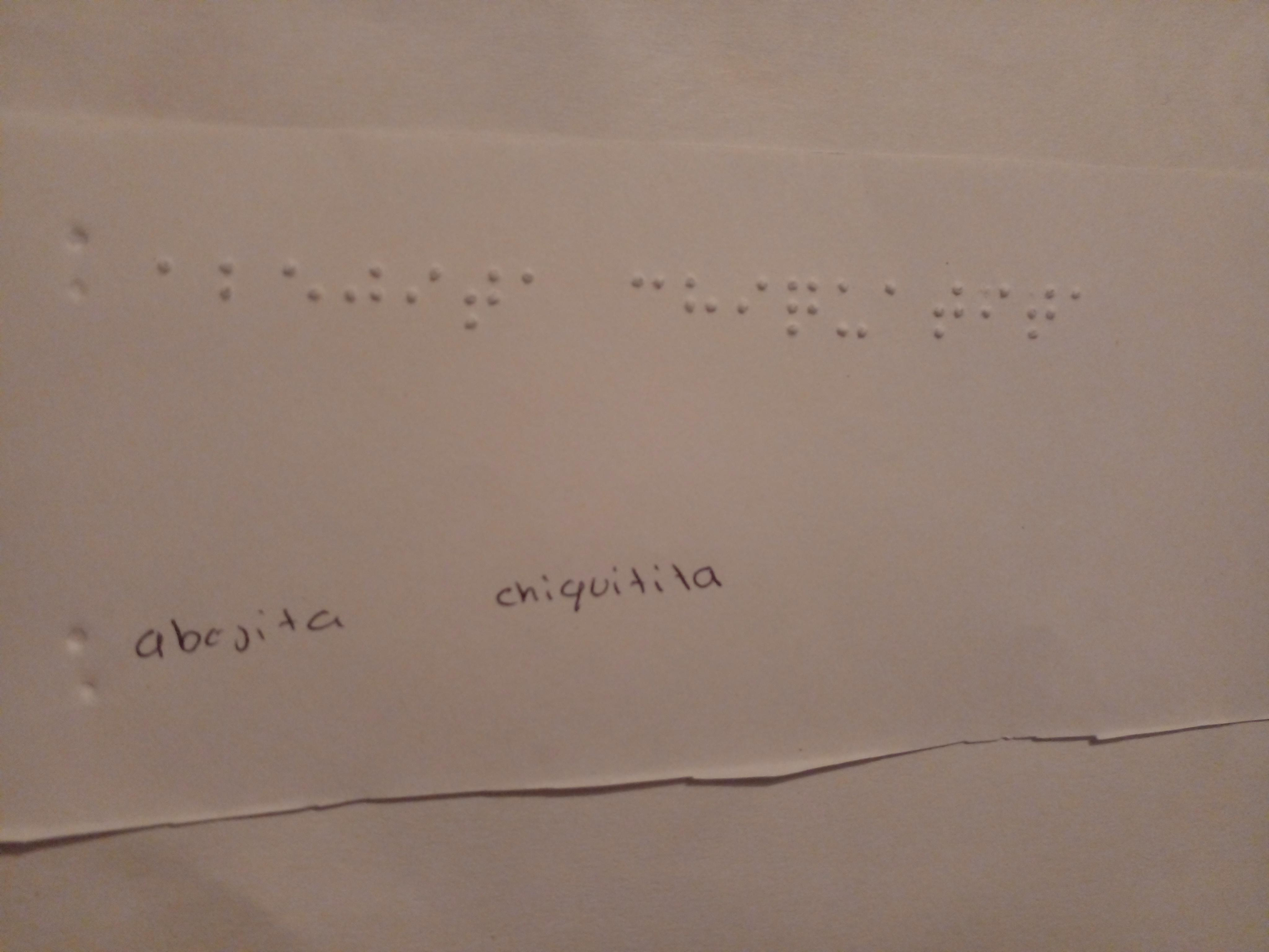a: (502, 242, 553, 321), (139, 232, 189, 311), (874, 279, 908, 324), (1067, 282, 1091, 313)
b: (204, 248, 254, 316)
c: (624, 263, 671, 318)
e: (262, 243, 333, 327)
h: (672, 273, 727, 324)
i: (403, 253, 452, 324), (731, 270, 776, 328), (977, 280, 1021, 336)
j: (336, 253, 395, 324)
q: (778, 268, 829, 344)
t: (460, 248, 507, 333), (1018, 277, 1067, 350), (928, 284, 974, 342)
u: (836, 277, 874, 353)
